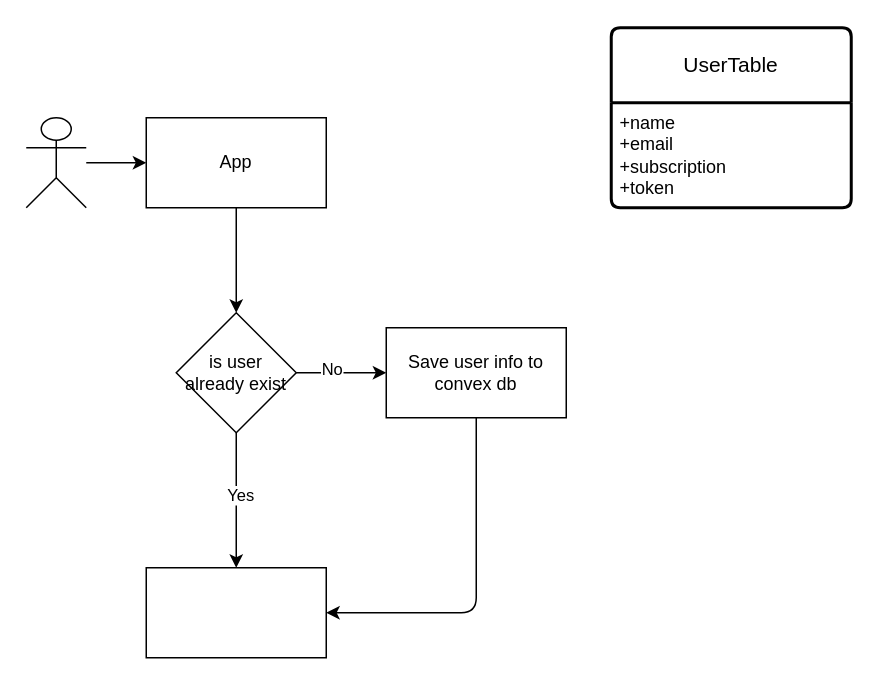
The diagram is 879 pixels wide and 684 high, and some of its shapes have lost their labels. The centre of each missing label's shape, as x and y in pixels:
"Dashboard" belongs at point (235, 612).
"User" belongs at point (55, 162).
